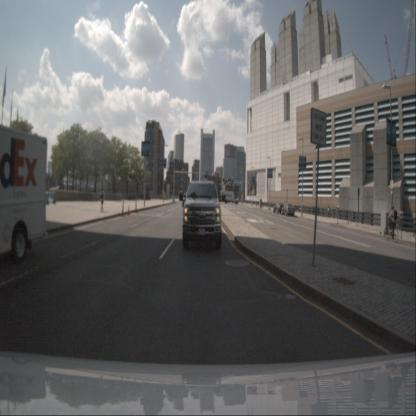barrier: (46, 192, 56, 204), (41, 193, 49, 204)
cone: (134, 197, 138, 213), (121, 200, 124, 216), (127, 205, 130, 215)
